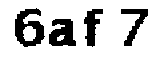6: (9, 5, 47, 50)
7: (118, 3, 152, 50)
a: (46, 16, 81, 49)
f: (79, 2, 109, 52)
